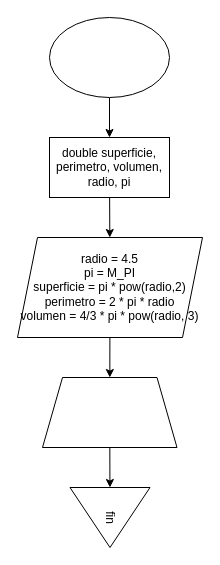
Some shapes in this 220 by 565 pixel diagram are drawn without their labels. The shapes that lost their labels are listed below. From the top down, each one's centre as x and y in pixels, then its label:
[109,57]: Circulo
[109,412]: "El resultado es: ", radio, pi, superficie, perimetro, volumen
